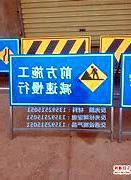sign: (8, 55, 113, 106)
